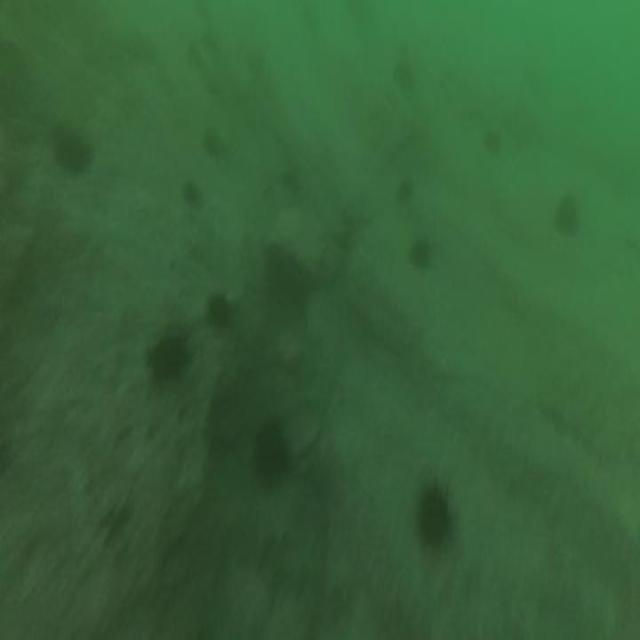echinus: (412, 471, 456, 555), (250, 414, 290, 498), (207, 384, 250, 455), (50, 117, 95, 183), (148, 328, 192, 388), (553, 188, 580, 242), (390, 50, 419, 100), (405, 229, 435, 275), (206, 286, 230, 335), (199, 125, 224, 161), (394, 175, 417, 212), (180, 174, 202, 212), (480, 123, 501, 158)
